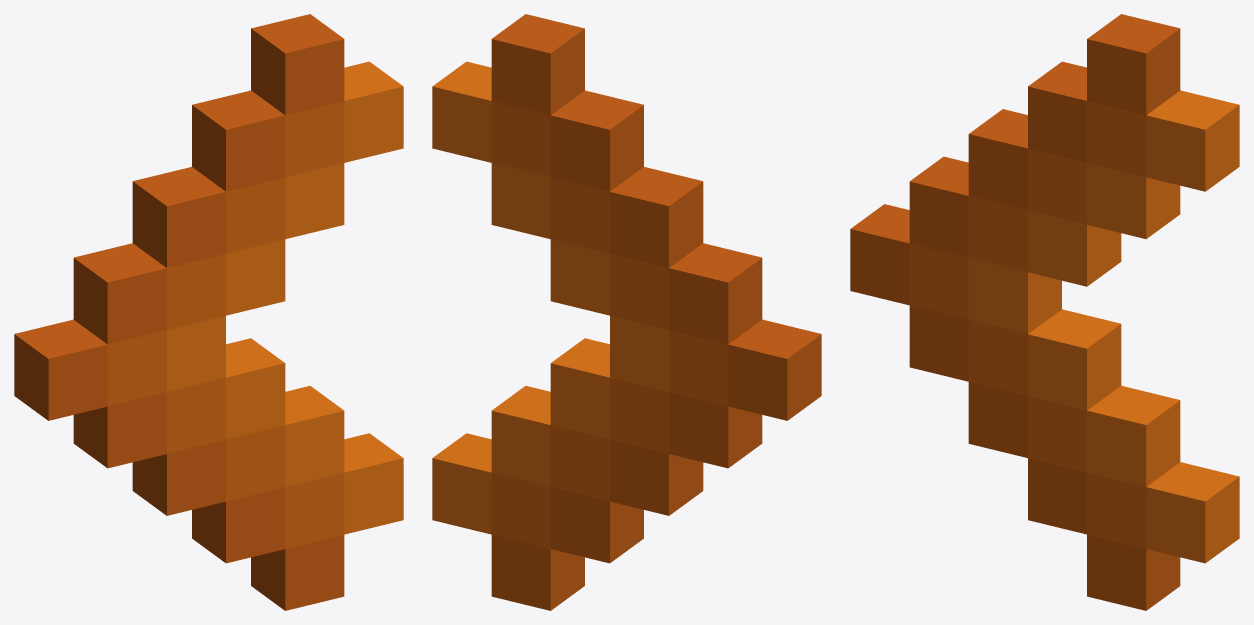
File: bar-5.obj
3 views of the same model, side by side, from view 1: azimuth 30°, elevation 25°; view 2: azimuth 150°, elevation 25°; view 3: azimuth 330°, elevation 25° (orthographic).
Bounding box in the file's own units: 0.6 × 0.9 × 0.1.
Materials: 1 (1 with a texture image).
